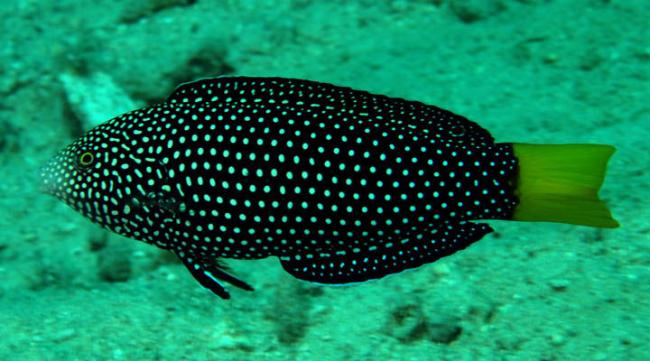fish: (39, 76, 620, 303)
